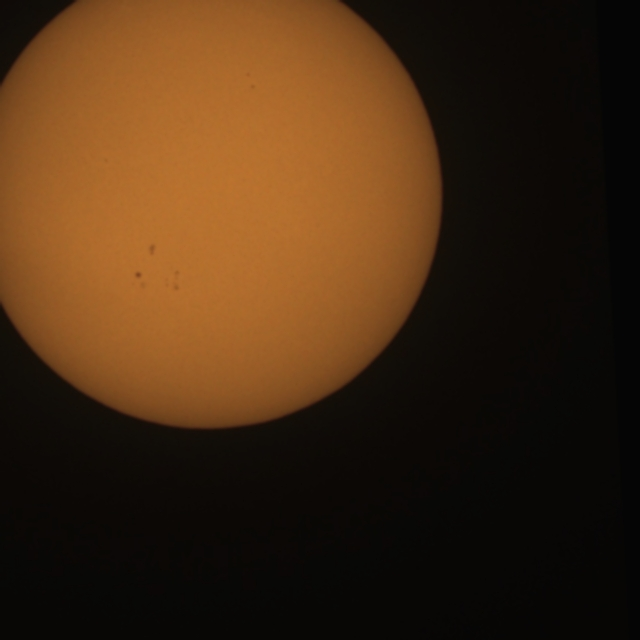sunspot: (164, 269, 182, 293), (133, 270, 148, 290), (244, 71, 257, 91), (147, 242, 158, 258), (244, 71, 254, 82), (134, 270, 143, 280), (248, 81, 257, 90), (102, 156, 109, 165)
